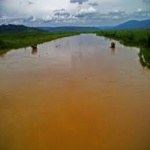Lake: (3, 36, 146, 149)
